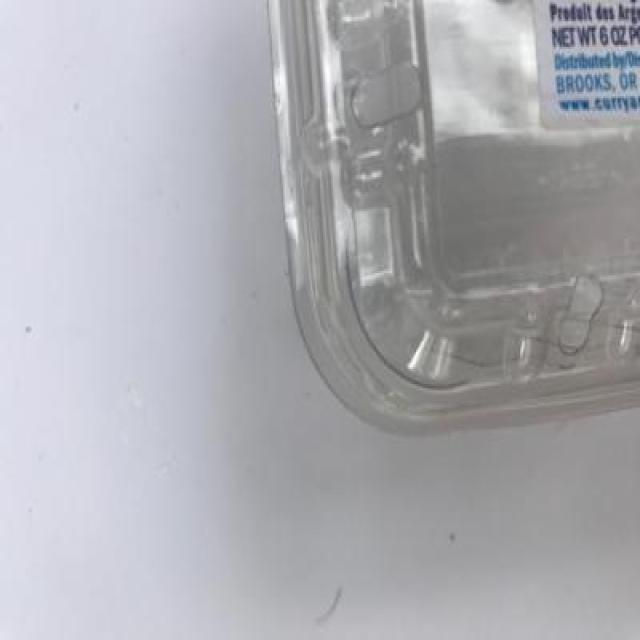plastic: (258, 0, 640, 449)
